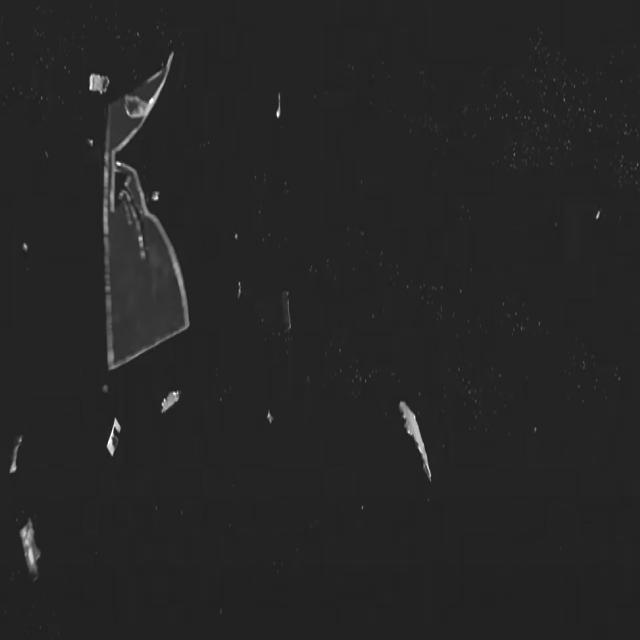large_debris: (96, 35, 188, 390), (394, 339, 442, 495), (13, 510, 39, 596), (100, 406, 125, 478), (1, 422, 27, 486), (79, 49, 107, 107), (154, 382, 182, 439)
